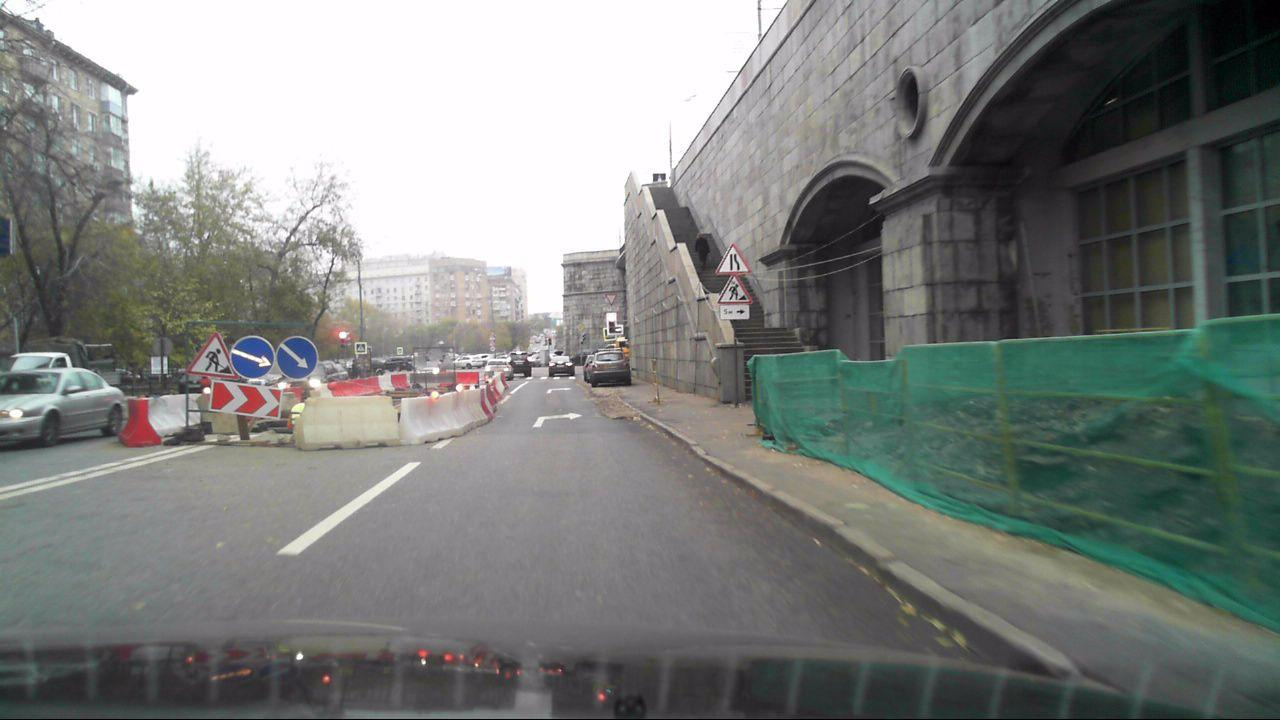1_20_2: (713, 241, 754, 276)
1_25: (182, 329, 238, 381), (718, 275, 753, 304)
1_34_1: (212, 379, 283, 420)
2_4: (605, 291, 618, 306)
4_2_1: (275, 335, 320, 380), (229, 334, 274, 376)
8_1_3: (718, 304, 751, 321)
